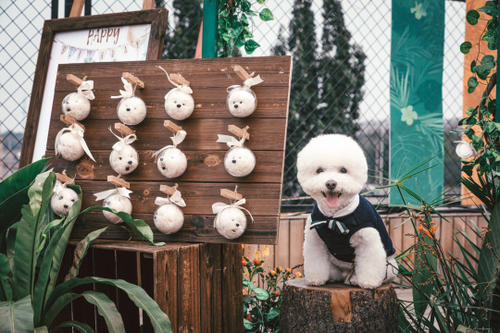dog: (282, 131, 382, 215)
